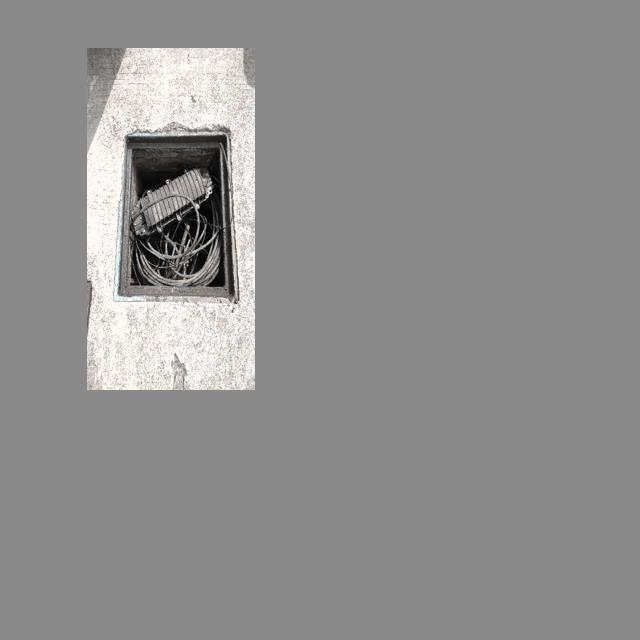lose: (112, 129, 241, 301)
